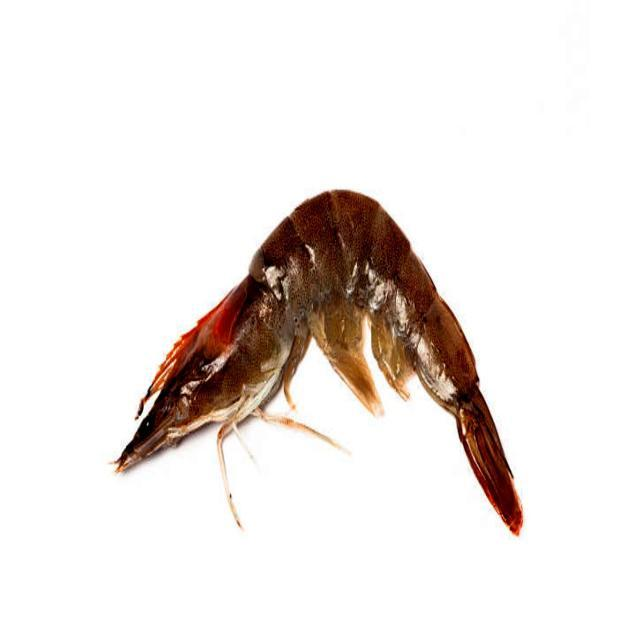shrimp: (116, 191, 522, 533)
